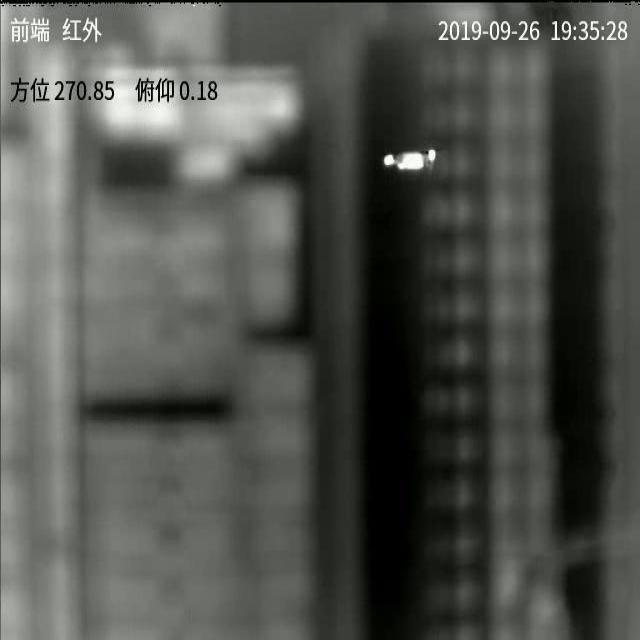drone: (383, 149, 444, 170)
